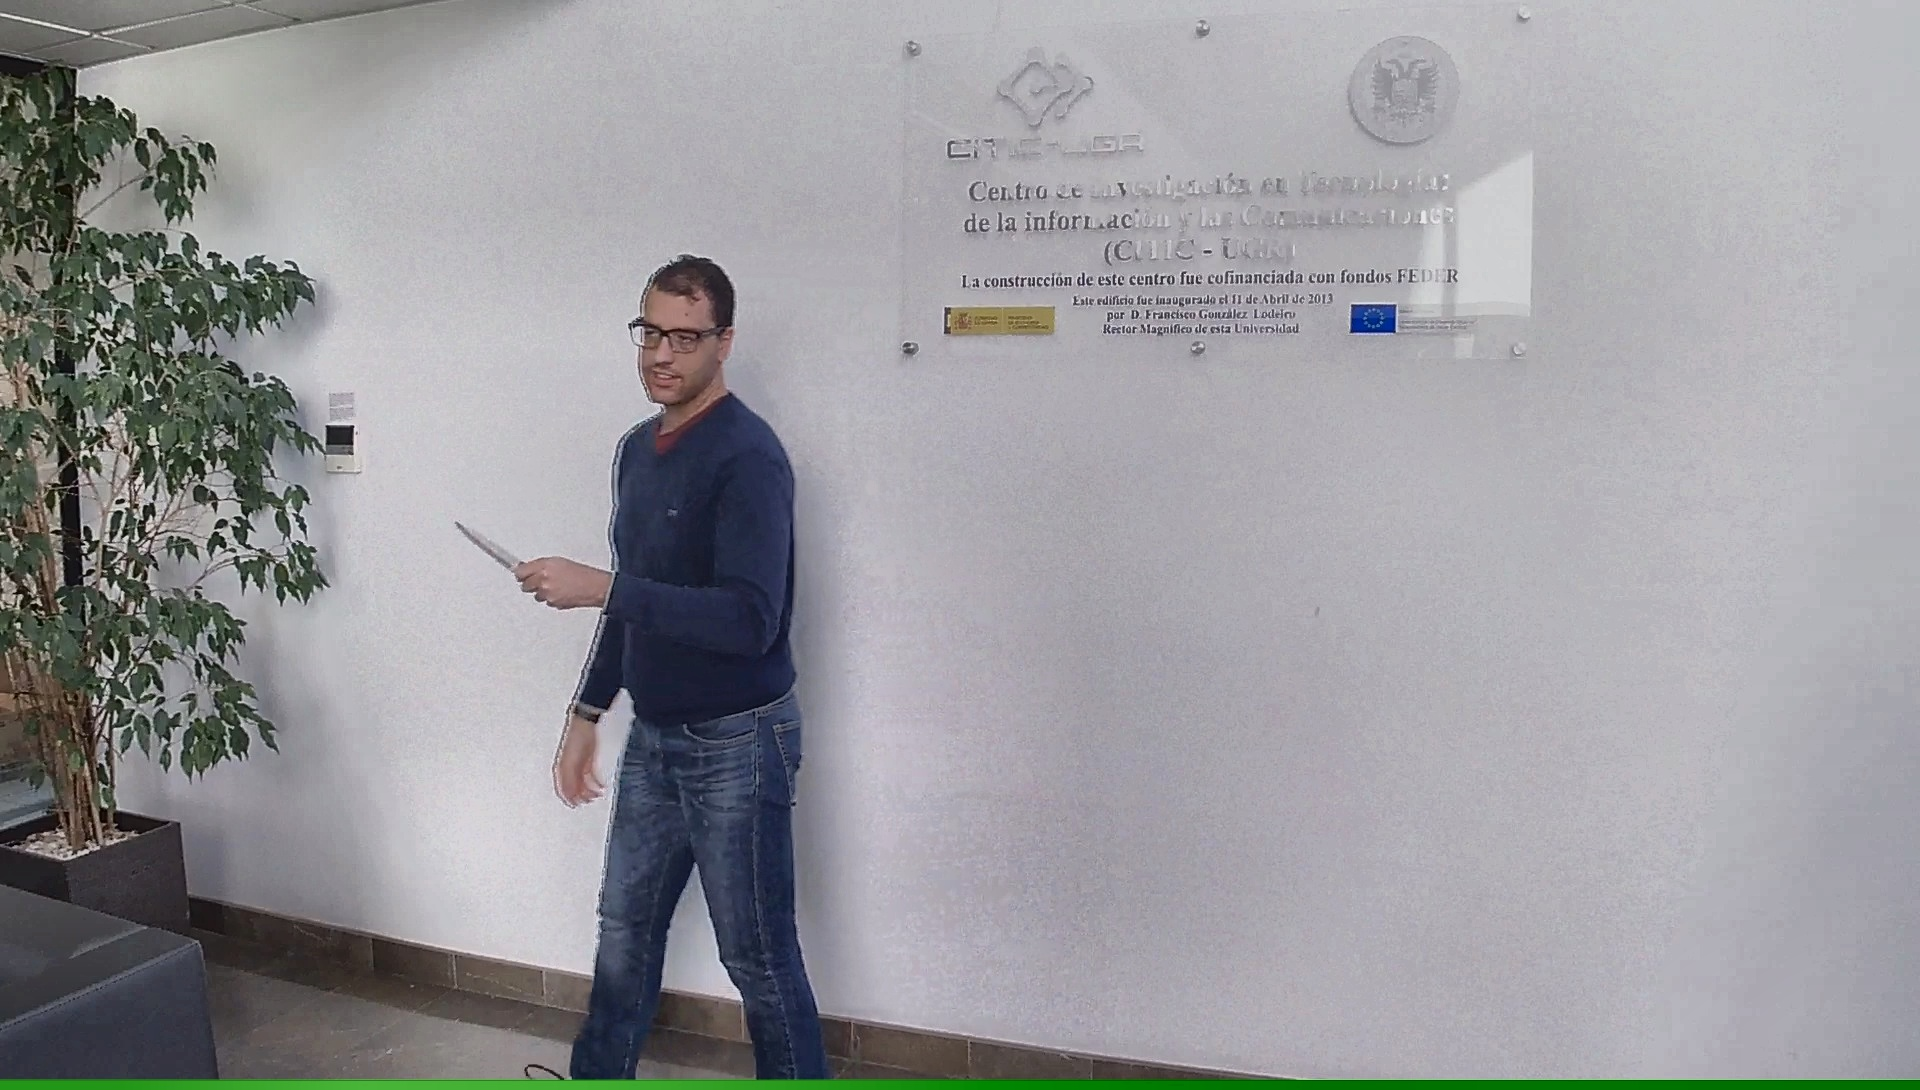knife: (446, 514, 559, 598)
